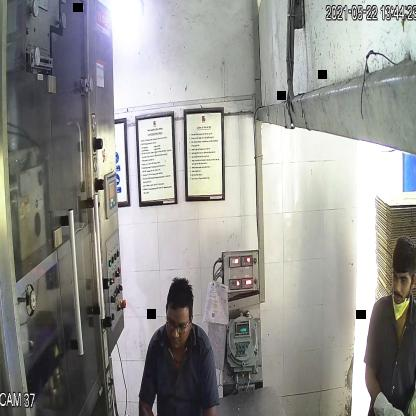goggles: (164, 314, 193, 337)
no_goggles: (389, 267, 415, 289)
